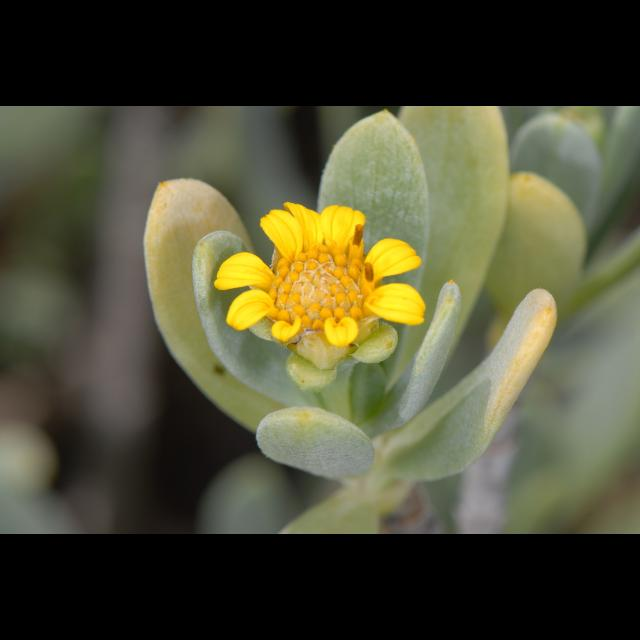Flower: (206, 198, 422, 370)
